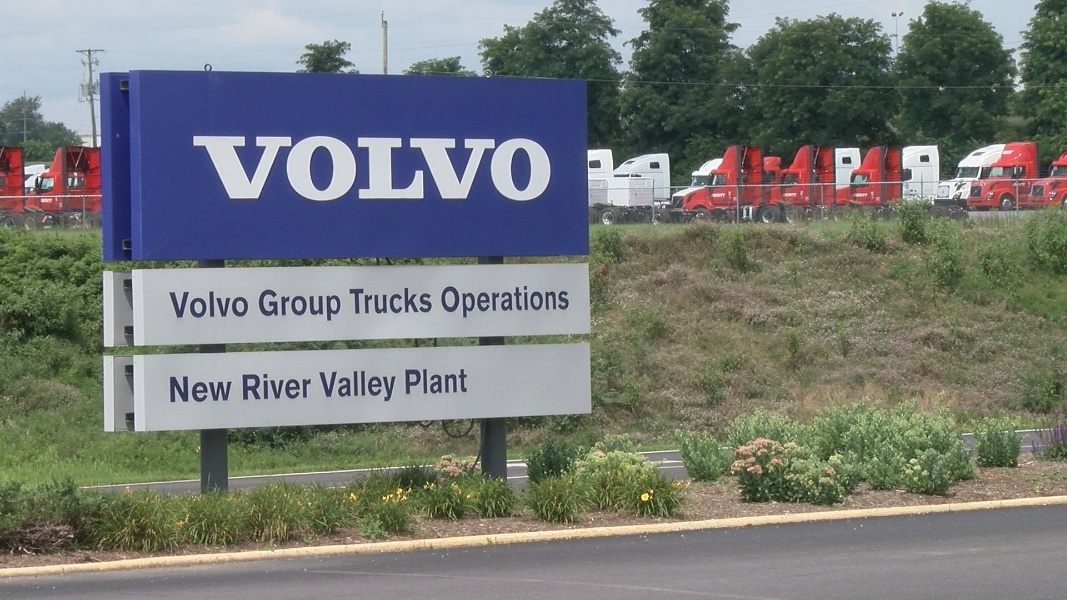text: (193, 135, 208, 202), (209, 135, 224, 202), (225, 135, 240, 202), (241, 135, 256, 202), (257, 135, 272, 202), (273, 135, 288, 202), (289, 135, 304, 202), (305, 135, 320, 202), (321, 135, 336, 202), (337, 135, 352, 202), (353, 135, 368, 202), (369, 135, 384, 202), (385, 135, 400, 202), (401, 135, 416, 202), (417, 135, 432, 202), (433, 135, 448, 202), (449, 135, 464, 202), (465, 135, 480, 202), (481, 135, 496, 202), (497, 135, 512, 202), (513, 135, 528, 202), (529, 135, 544, 202), (545, 135, 556, 202), (273, 288, 288, 323), (289, 288, 304, 323), (305, 288, 320, 323), (321, 288, 336, 323), (449, 284, 464, 319), (465, 284, 480, 319), (481, 284, 496, 319), (497, 284, 512, 319), (513, 284, 528, 319), (529, 284, 544, 319), (545, 284, 560, 319), (258, 288, 272, 323), (321, 371, 336, 403), (337, 371, 352, 403), (353, 371, 368, 403), (369, 371, 384, 403), (417, 366, 432, 396), (433, 366, 448, 396), (449, 366, 464, 396), (417, 288, 433, 316), (241, 373, 256, 402), (257, 373, 272, 402), (273, 373, 288, 402), (289, 373, 304, 402), (177, 291, 192, 319), (193, 291, 208, 319), (209, 291, 224, 319), (225, 291, 240, 319), (353, 288, 368, 316), (369, 288, 384, 316), (385, 288, 400, 316), (401, 288, 416, 316), (177, 376, 192, 404), (193, 376, 208, 404), (209, 376, 224, 404), (561, 284, 572, 319), (385, 371, 397, 403), (405, 366, 416, 396), (167, 291, 176, 319), (241, 291, 250, 319), (305, 373, 313, 402), (225, 376, 233, 404), (337, 288, 343, 323), (442, 284, 448, 319), (169, 376, 176, 404), (465, 366, 469, 396), (349, 288, 352, 316), (318, 371, 320, 403)
